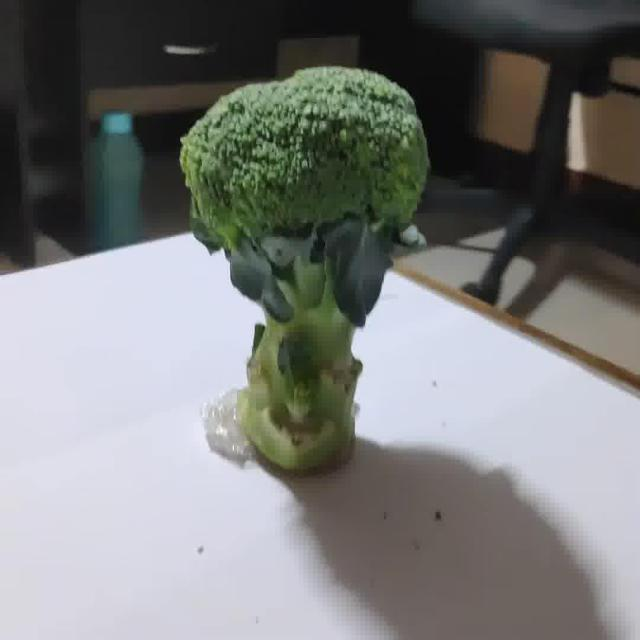Broccoli: (180, 66, 430, 477)
